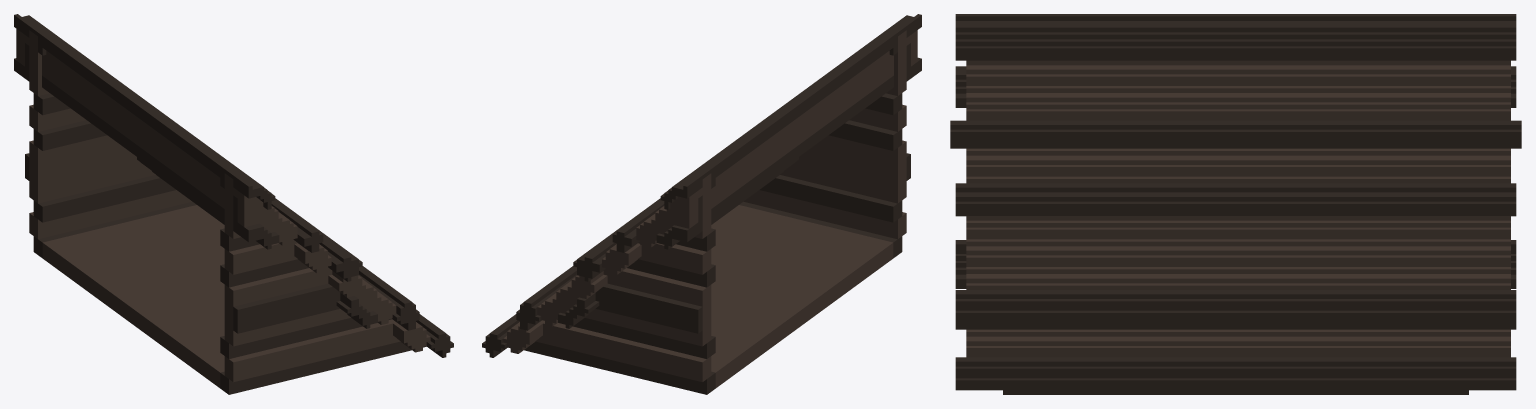
Rendered from RoofFullFilled.obj.
3 views of the same model, side by side, from view 1: azimuth 30°, elevation 25°; view 2: azimuth 150°, elevation 25°; view 3: azimuth 270°, elevation 25° (orthographic). The views are drawn at different scales.
Bounding box in the file's own units: 5.4 × 5.6 × 10.9.
1 material, 1 textured.
